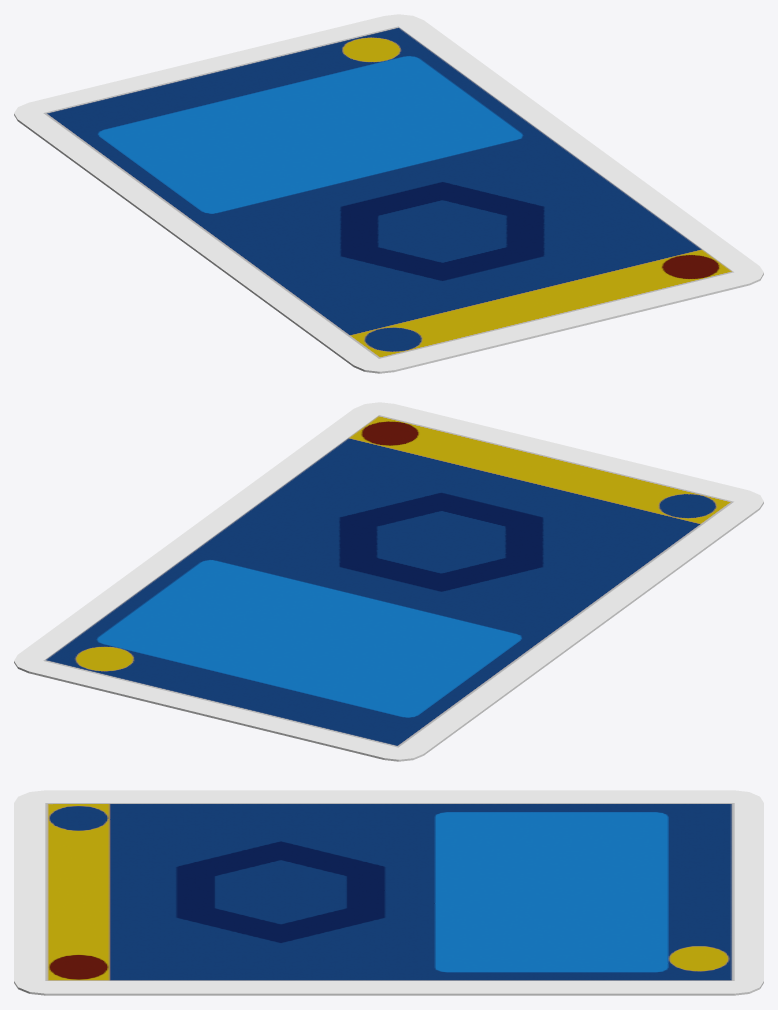
The model's file is Unit Card Model.fbx.
3 views of the same model, one above another, from view 1: azimuth 30°, elevation 25°; view 2: azimuth 150°, elevation 25°; view 3: azimuth 270°, elevation 25° (orthographic). The views are drawn at different scales.
Parts seen in each view (by area): view 1: Unit; view 2: Unit; view 3: Unit.
Boxes of the visible parts, x1,y1,x2,y2 form: Unit: [14, 14, 763, 373]; Unit: [14, 402, 763, 761]; Unit: [14, 790, 763, 995].
Size of the model in its own units: 520 by 2.4 by 810.
